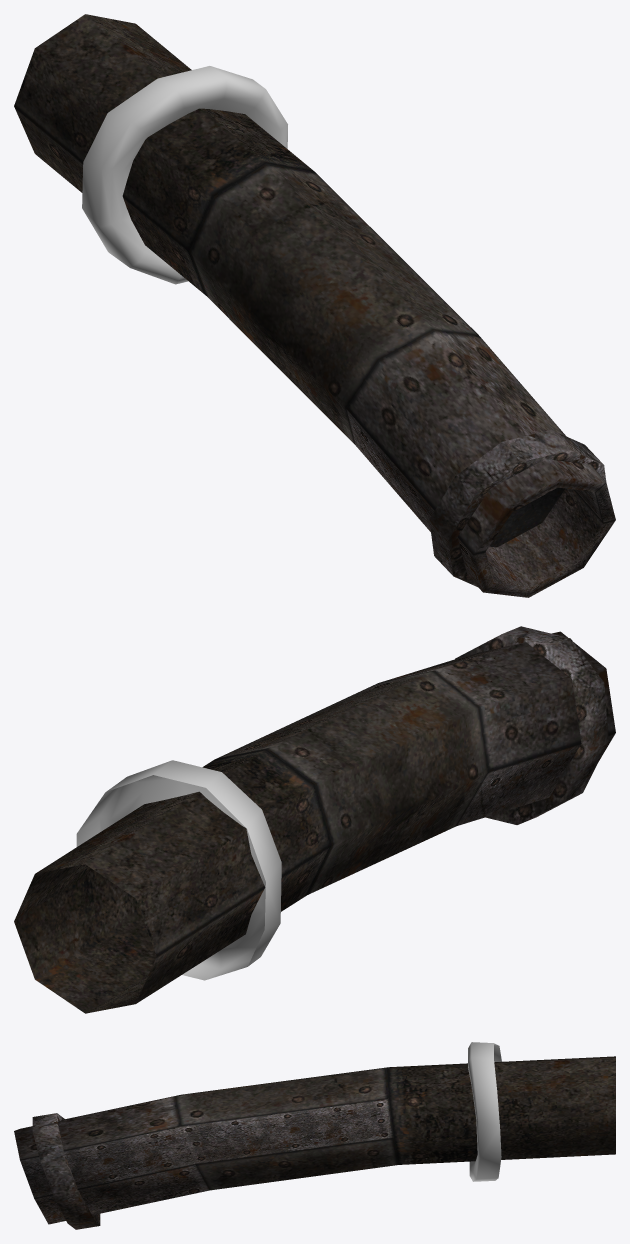
The model's file is cistern_breakable_pipe02.dae.
3 renders of one model, top to bottom at view 1: azimuth 30°, elevation 25°; view 2: azimuth 150°, elevation 25°; view 3: azimuth 270°, elevation 25°, orthographic. The views are drawn at different scales.
Visible parts, largest first — view 1: cistern_breakable_pipe02, polySurface721; view 2: cistern_breakable_pipe02, polySurface721; view 3: cistern_breakable_pipe02, polySurface721.
Part boxes in pixels (x1,y1,x2,y2): cistern_breakable_pipe02: (14, 14, 615, 597); polySurface721: (82, 66, 287, 284); cistern_breakable_pipe02: (14, 626, 615, 1013); polySurface721: (76, 760, 281, 980); cistern_breakable_pipe02: (14, 1056, 615, 1229); polySurface721: (468, 1042, 501, 1181).
Bounding box in the file's own units: 0.4722 × 0.6451 × 2.03.
